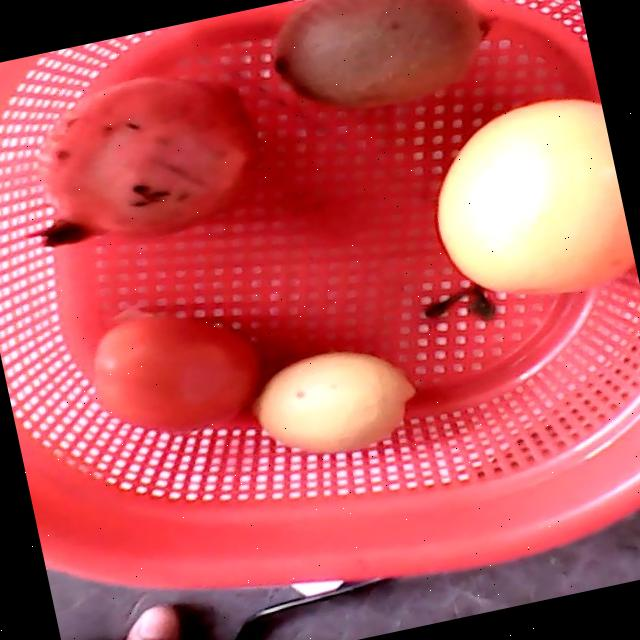kiwi: (274, 0, 490, 109)
lemon: (248, 350, 415, 453)
orange: (436, 98, 630, 293)
pomegranate: (30, 75, 266, 246)
tomato: (93, 317, 259, 430)
